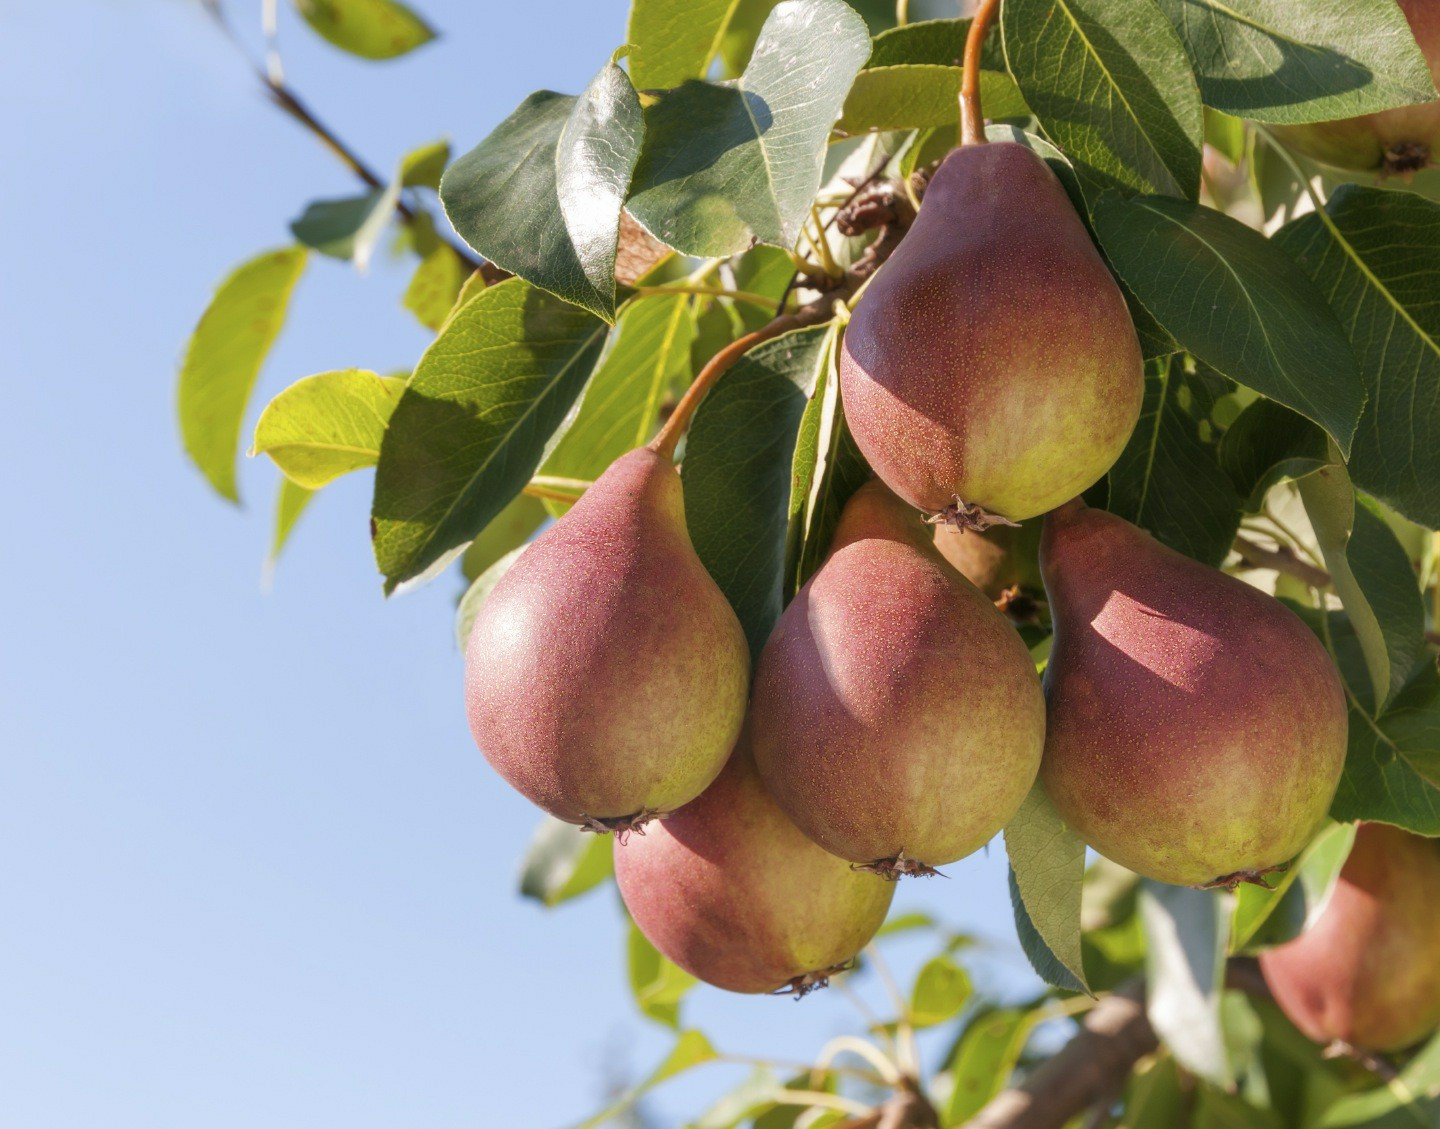pear: (836, 138, 1145, 532), (1045, 494, 1349, 886), (753, 475, 1044, 870), (461, 445, 747, 830), (612, 658, 898, 993), (1253, 805, 1440, 1064)
